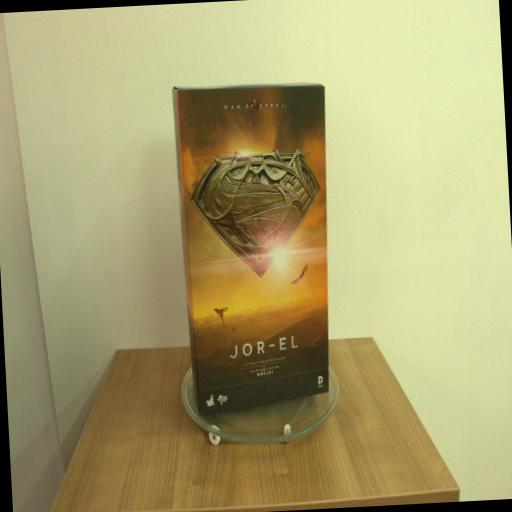superman: (168, 76, 334, 410)
